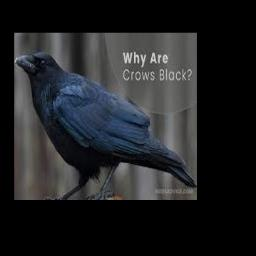Crow: (14, 52, 196, 199)
